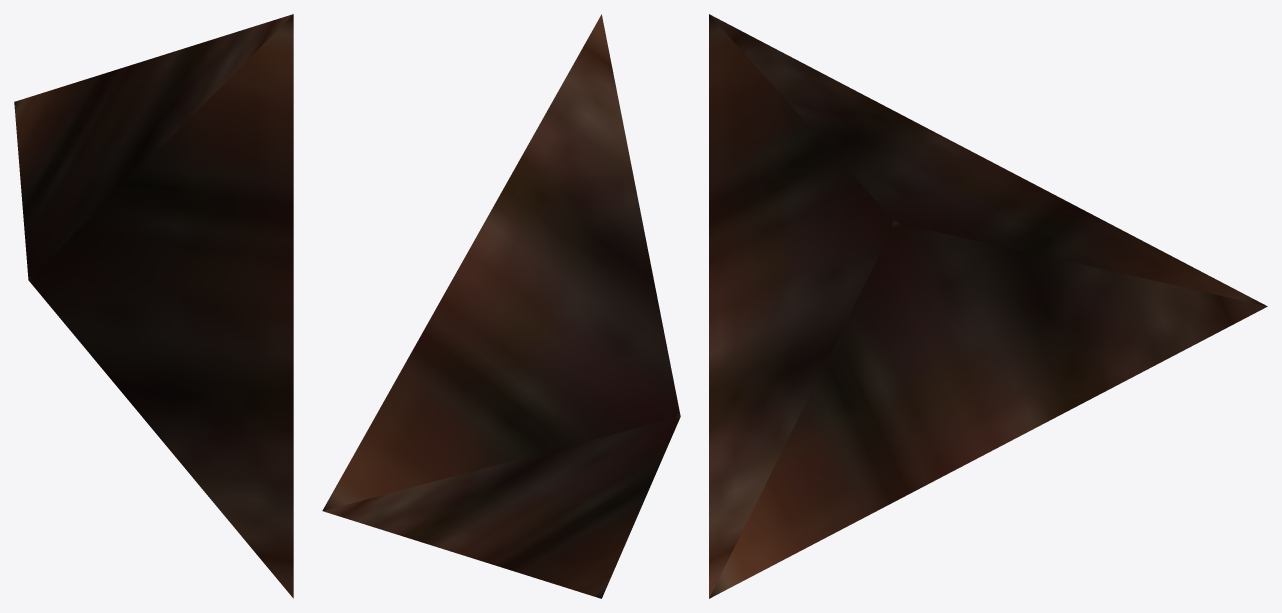
File: POCHODNIANPC.glb
3 views of the same model, side by side, from view 1: azimuth 30°, elevation 25°; view 2: azimuth 150°, elevation 25°; view 3: azimuth 270°, elevation 25° (orthographic).
Visible parts, largest first — view 1: Mesh; view 2: Mesh; view 3: Mesh.
Part boxes in pixels (bbox=[...]): Mesh: bbox=[14, 14, 293, 598]; Mesh: bbox=[322, 14, 680, 598]; Mesh: bbox=[709, 14, 1267, 598].
Size of the model in its own units: 0.00277 by 0.00899 by 0.00778.
1 material, 1 textured.
